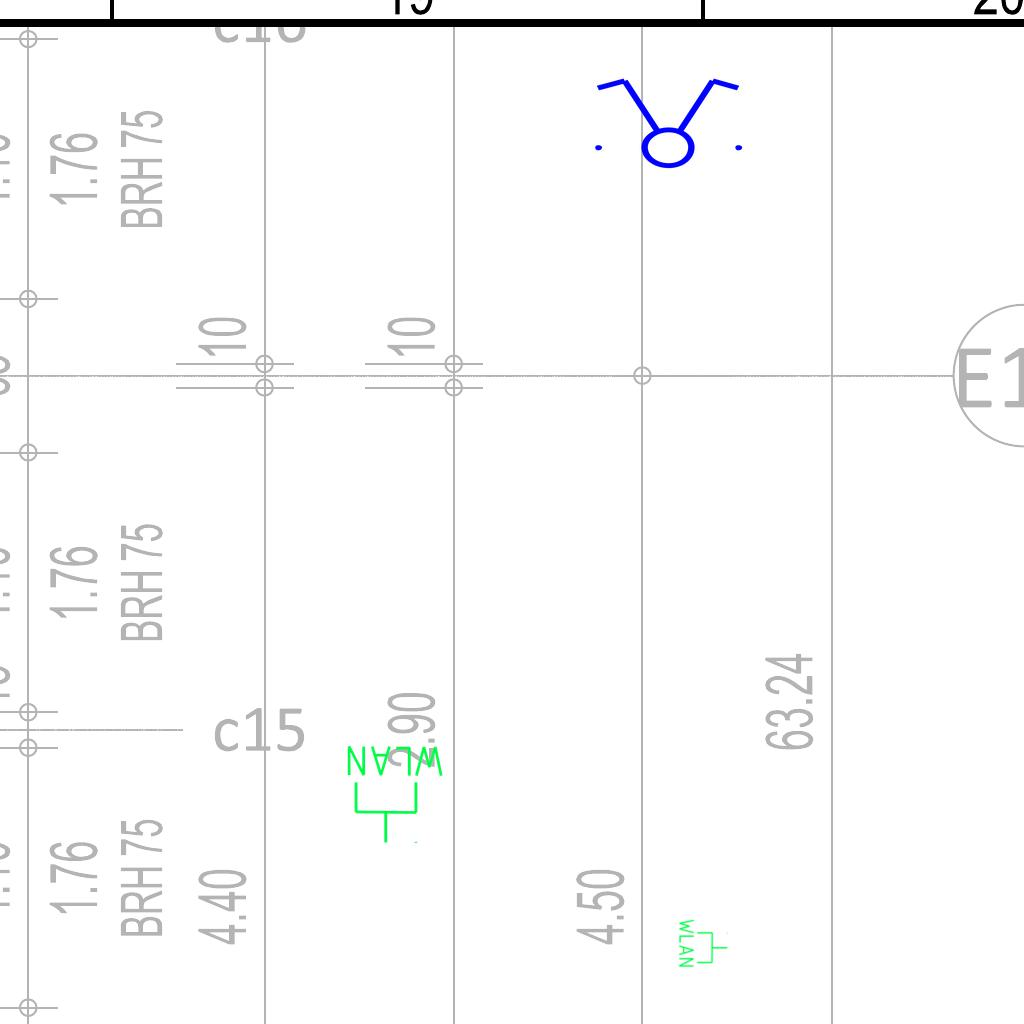Serienschalter: (583, 74, 751, 170)
WLAN: (343, 742, 448, 846), (677, 917, 729, 969)
